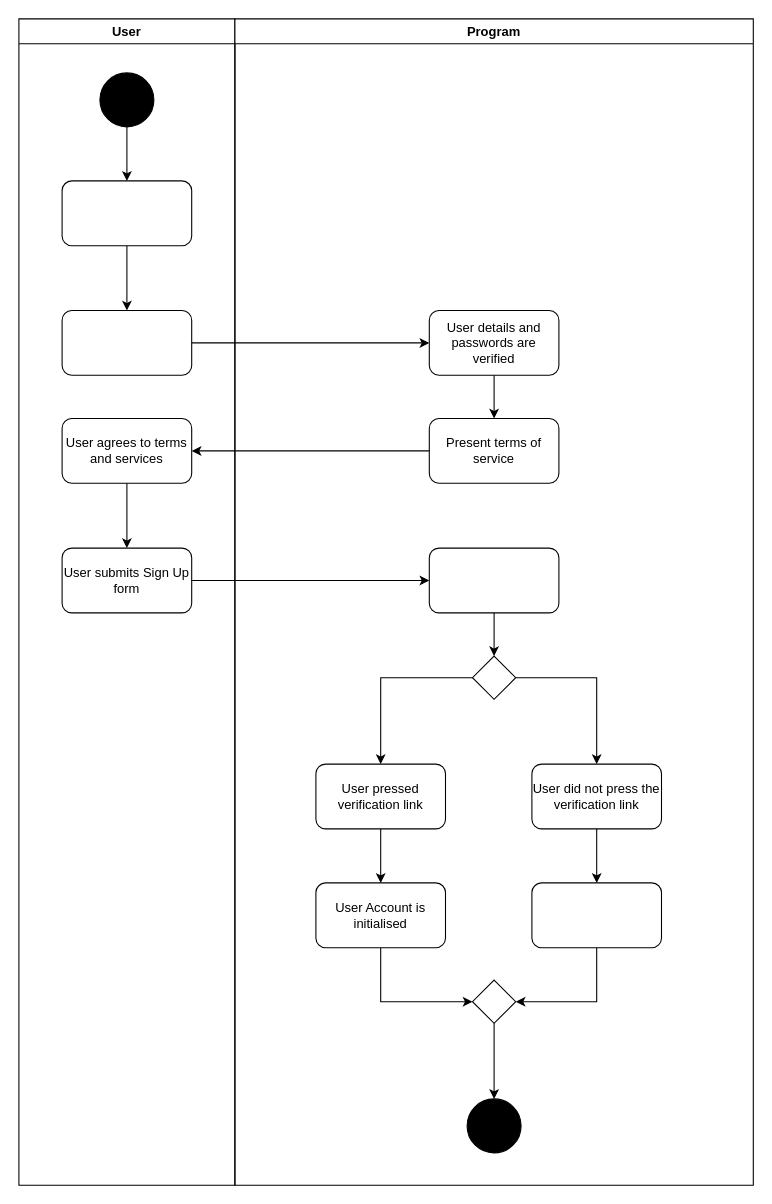
This 772x1204 diagram has some shape labels left out. The shapes that lost their labels are listed below. From the top down, each one's box as (x1, y1, x2, y2) in pixels, then its label:
(61, 180, 192, 246): User navigates to the sign up page
(61, 309, 192, 375): User assigns their details and password
(428, 547, 559, 613): Creates a new user and stores the information
(531, 882, 662, 948): User Account is suspended
